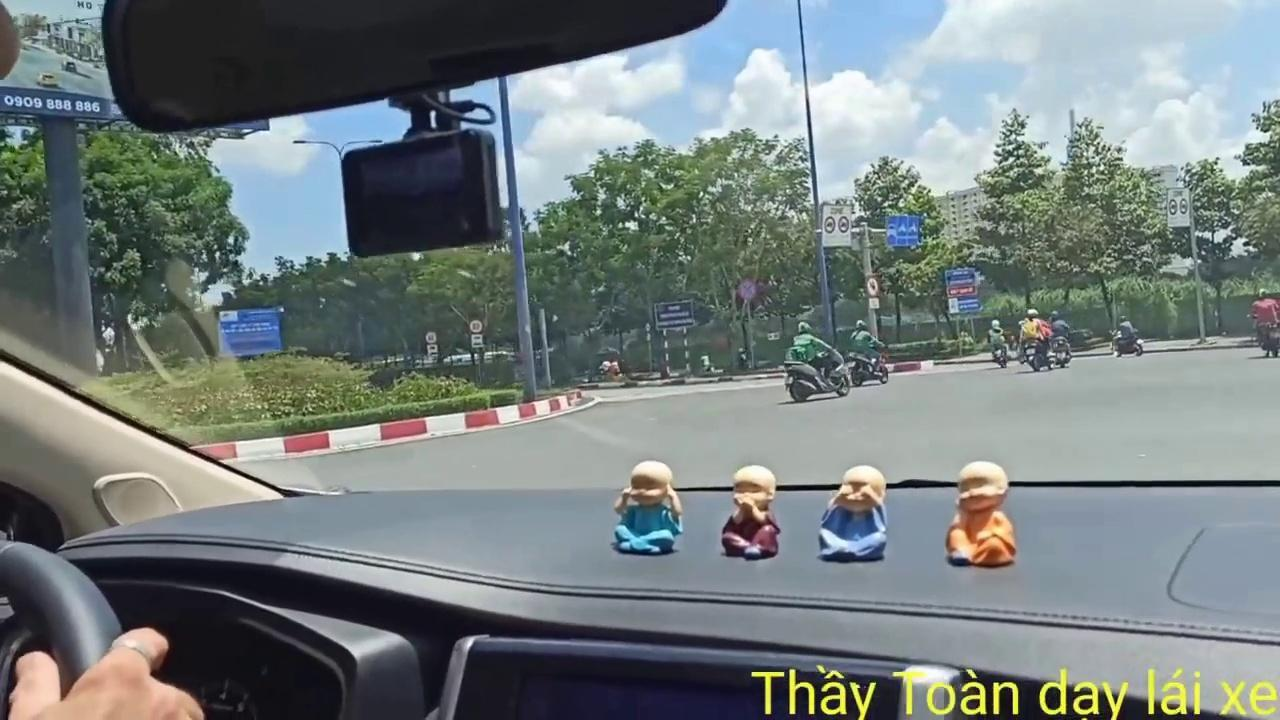Biển phụ: (471, 333, 484, 349), (427, 346, 438, 362)
Cấm cac phương tiện hoạt động trong khung giờ cố định: (822, 204, 853, 248)
Cấm dừng - Cấm đỗ: (736, 278, 757, 301)
Cấm xe máy: (866, 277, 879, 296)
GIơi hạn tốc độ 60Km/h: (426, 330, 439, 344)
Giới hạn tốc độ 80Km/h: (469, 317, 483, 333)
Khác: (217, 306, 284, 359), (945, 268, 980, 312)
Làn đường cho từng xe: (884, 214, 921, 250)
